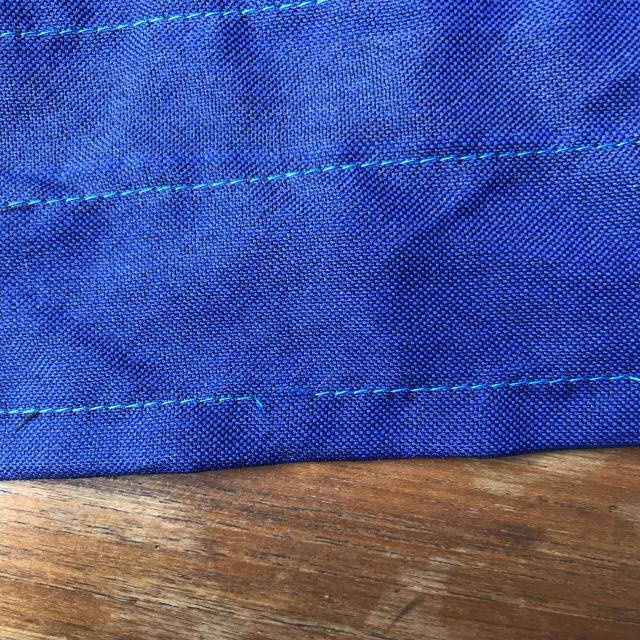broken: (224, 372, 348, 424)
good: (170, 172, 304, 196)
